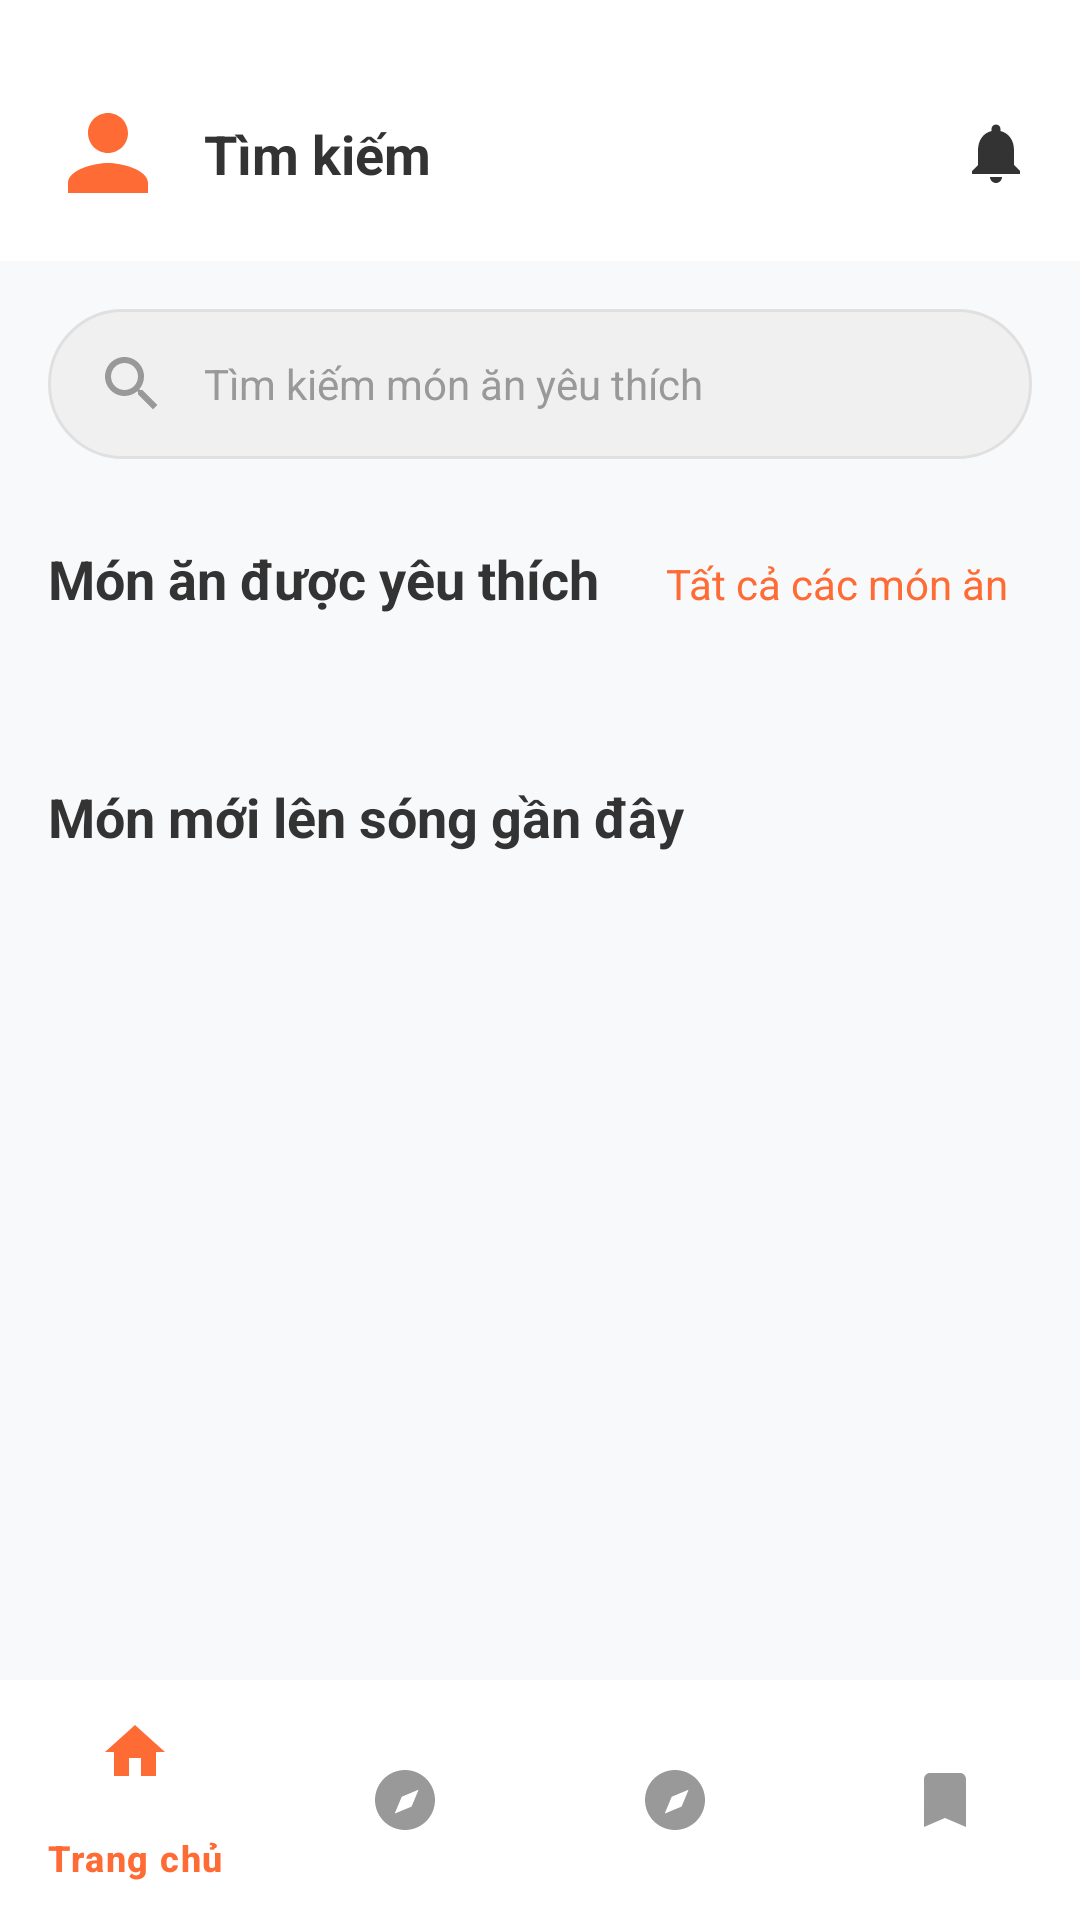

Icon click points for this 1080px×1920px phone screenshot, format (x=x, y=y):
notification: (x=996, y=153)
